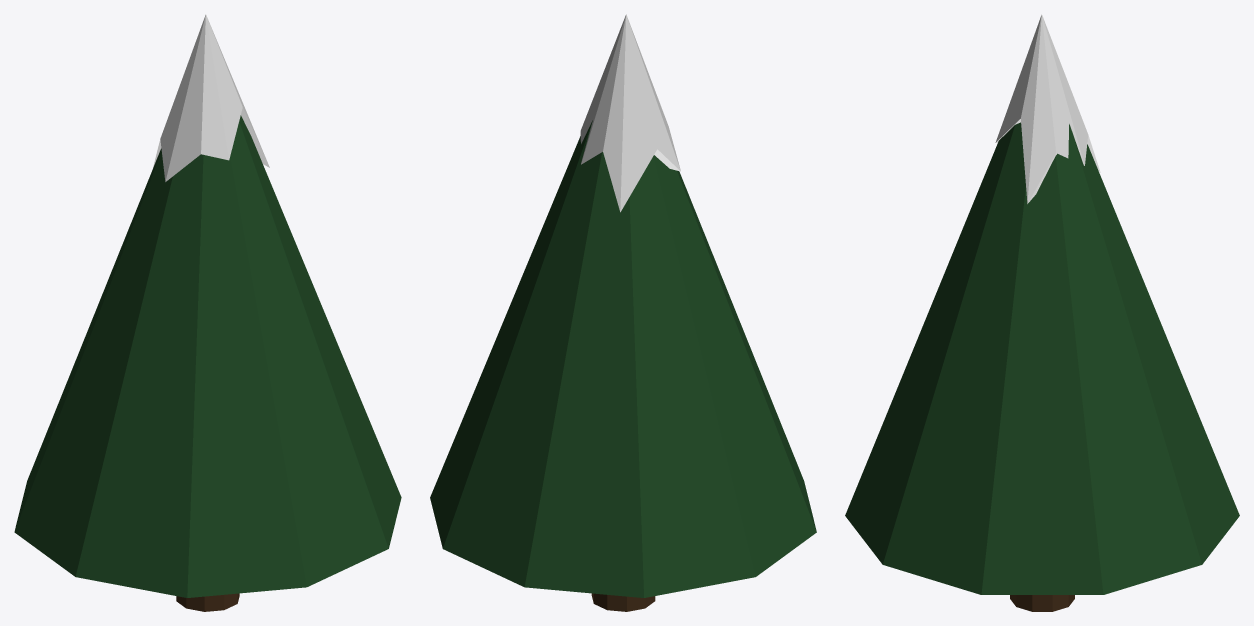
File: Tree1_with_snow.fbx
The picture shows the model from 3 angles, left to right: view 1: azimuth 30°, elevation 25°; view 2: azimuth 150°, elevation 25°; view 3: azimuth 270°, elevation 25°; orthographic projection.
Visible parts, largest first — view 1: Cylinder; view 2: Cylinder; view 3: Cylinder.
Boxes of the visible parts, x1=… form: Cylinder: x1=14, y1=14, x2=401, y2=611; Cylinder: x1=430, y1=14, x2=816, y2=611; Cylinder: x1=845, y1=14, x2=1239, y2=611.
Bounding box in the file's own units: 232 × 397 × 244.
